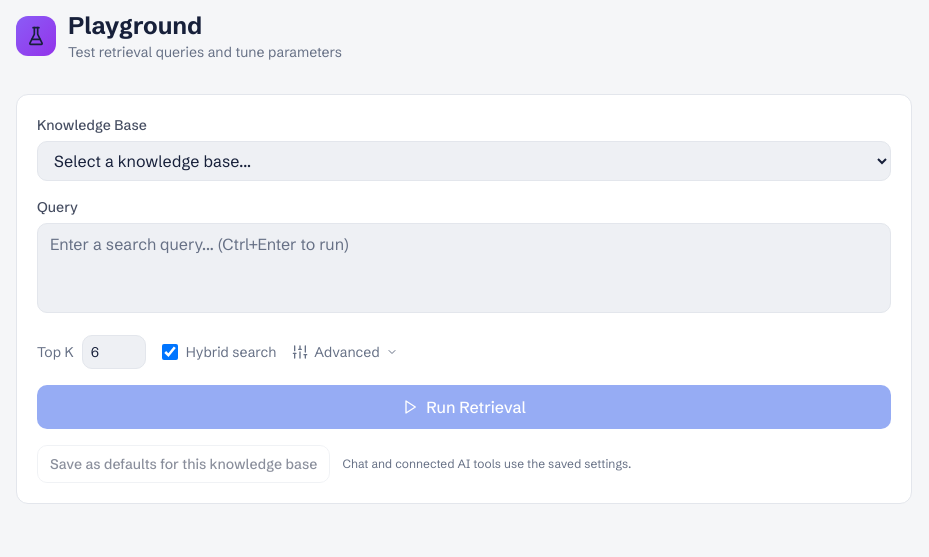
PlaygroundPage: retrieval settings › saves what was tuned as the defaults for that knowledge base
Select "Handbook" in the dropdown named "Knowledge base": (464, 161) [37, 141, 891, 181]
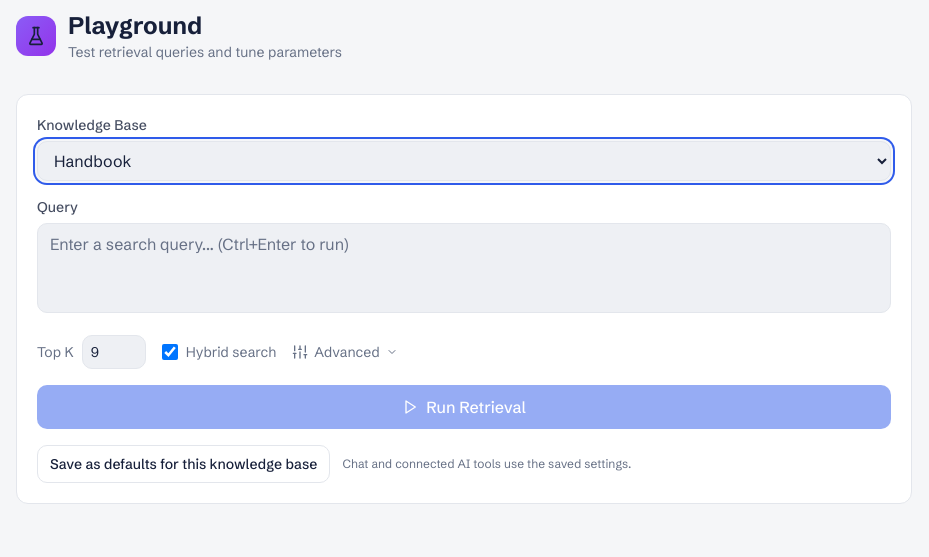
Expected: the number field named "Top K" holds "9"
Replace the text in the number field named "Top K" with "4": (114, 352) [82, 335, 146, 369]
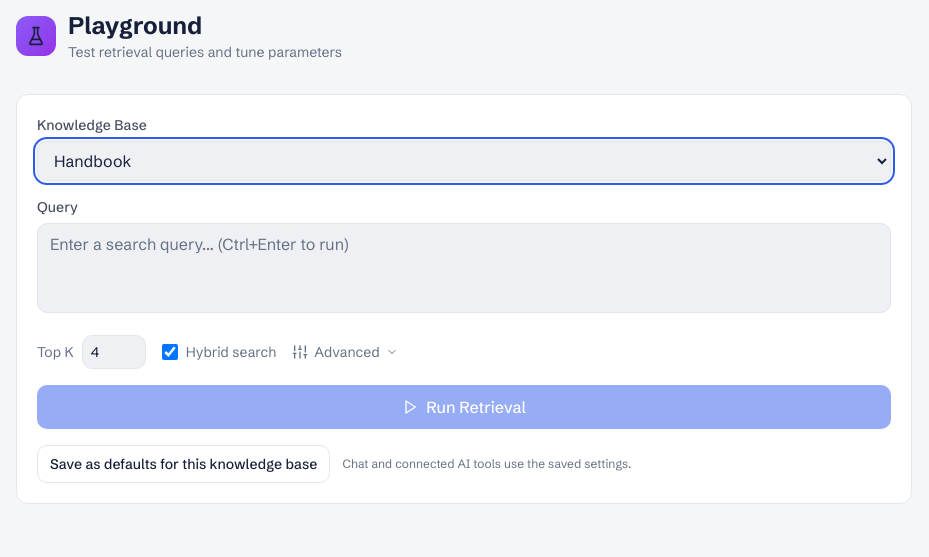
Click the button "Save as defaults for this knowledge base": (184, 464) [37, 445, 330, 483]
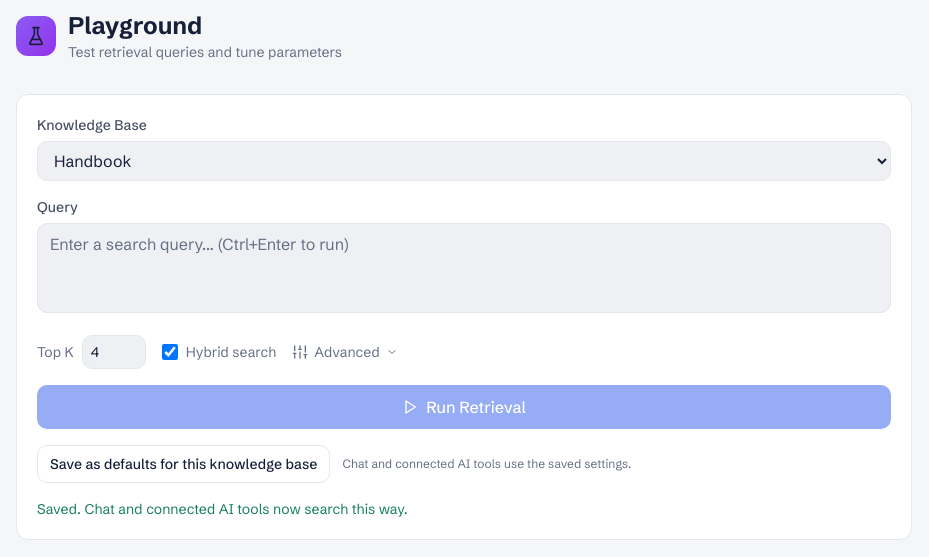
Expected: the message shows "Chat and connected AI tools now search this way", [37, 500, 408, 518]
